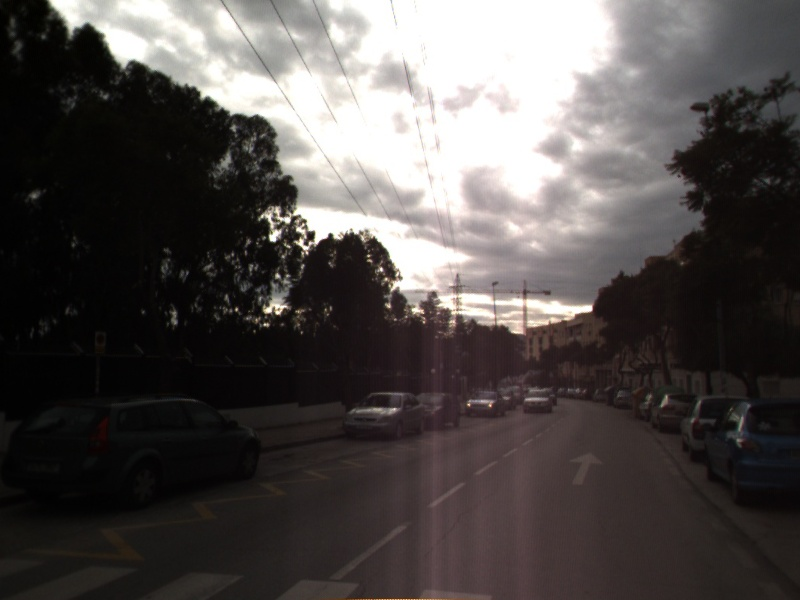STRAIGHT: (567, 449, 606, 487)
